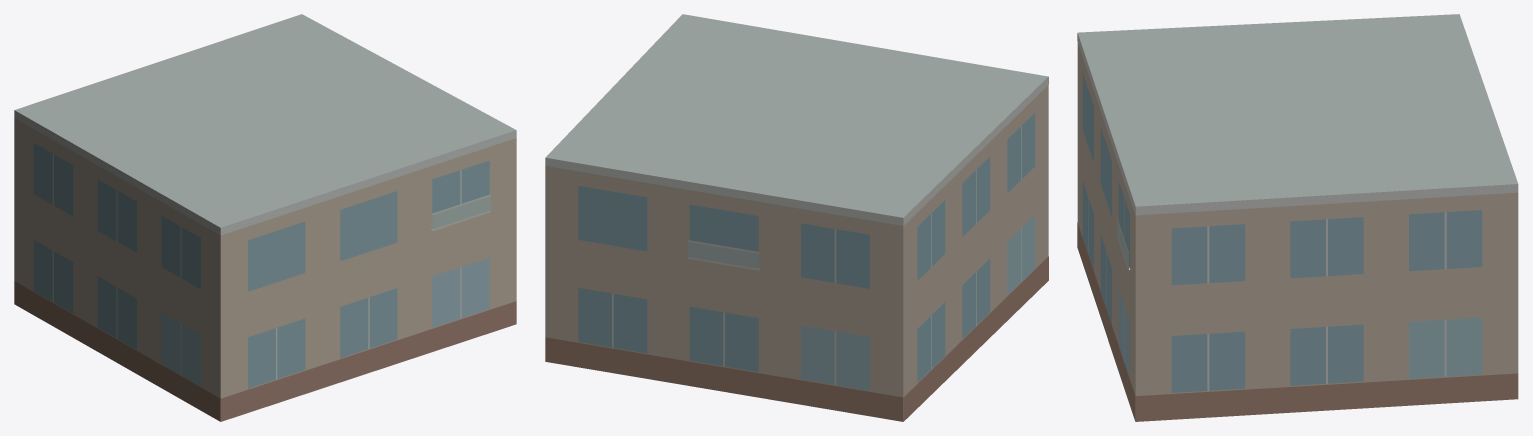
Rendered from survey-upis-32905564.glb.
3 views of the same model, side by side, from view 1: azimuth 30°, elevation 25°; view 2: azimuth 150°, elevation 25°; view 3: azimuth 270°, elevation 25° (orthographic). The views are drawn at different scales.
Parts seen in each view (by area): view 1: survey-upis-32905564.tmp; view 2: survey-upis-32905564.tmp; view 3: survey-upis-32905564.tmp.
Boxes of the visible parts, x1,y1,x2,y2 form: survey-upis-32905564.tmp: (14, 14, 516, 421); survey-upis-32905564.tmp: (545, 14, 1048, 421); survey-upis-32905564.tmp: (1077, 14, 1518, 421).
Size of the model in its own units: 11.73 by 6.1 by 11.34.
